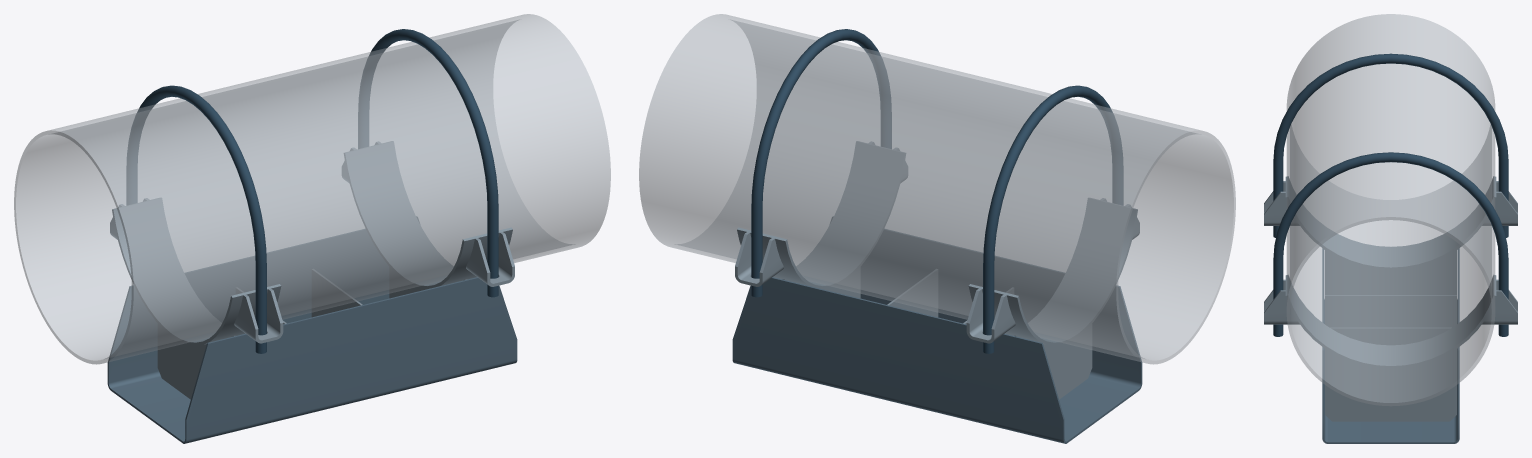
Rendered from TS-626.00.000-097-opora-dn426-H150-L680.glb.
3 renders of one model, left to right at view 1: azimuth 30°, elevation 25°; view 2: azimuth 150°, elevation 25°; view 3: azimuth 270°, elevation 25°, orthographic. The views are drawn at different scales.
Visible parts, largest first — view 1: truba, skoba_0, podushka_5, podushka_6, homut_0, homut_1, rebro4_1, ushko_10, ushko_8, rebro5_4; view 2: truba, skoba_0, podushka_5, podushka_6, homut_0, homut_1, rebro4_1, ushko_9, ushko_7, rebro5_4; view 3: truba, rebro4_2, podushka_6, podushka_5, homut_1, homut_0, rebro5_3, rebro4_1, skoba_0, rebro5_4, ushko_9, ushko_10 (+2 smaller).
Part boxes in pixels (x1,y1,x2,y2): truba: (14, 14, 610, 364); skoba_0: (107, 216, 517, 443); podushka_5: (112, 198, 281, 345); podushka_6: (344, 141, 512, 289); homut_0: (126, 85, 266, 353); homut_1: (358, 29, 498, 297); rebro4_1: (157, 324, 235, 399); ushko_10: (466, 232, 514, 286); ushko_8: (234, 288, 283, 343); rebro5_4: (311, 269, 362, 317); truba: (639, 14, 1235, 364); skoba_0: (732, 216, 1142, 443); podushka_5: (968, 198, 1137, 345); podushka_6: (737, 141, 905, 289); homut_0: (983, 85, 1123, 353); homut_1: (751, 29, 891, 297); rebro4_1: (1014, 324, 1092, 399); ushko_9: (735, 232, 783, 286); ushko_7: (966, 288, 1015, 343); rebro5_4: (887, 269, 938, 317); truba: (1286, 14, 1495, 406); rebro4_2: (1325, 349, 1456, 421); podushka_6: (1285, 275, 1496, 368); podushka_5: (1285, 176, 1496, 270); homut_1: (1273, 152, 1508, 336); homut_0: (1273, 53, 1508, 237); rebro5_3: (1325, 295, 1456, 327); rebro4_1: (1325, 250, 1456, 295); skoba_0: (1322, 248, 1459, 443); rebro5_4: (1330, 327, 1451, 345); ushko_9: (1482, 279, 1517, 324); ushko_10: (1264, 279, 1299, 324).
Size of the model in its own units: 980 by 608 by 518.
